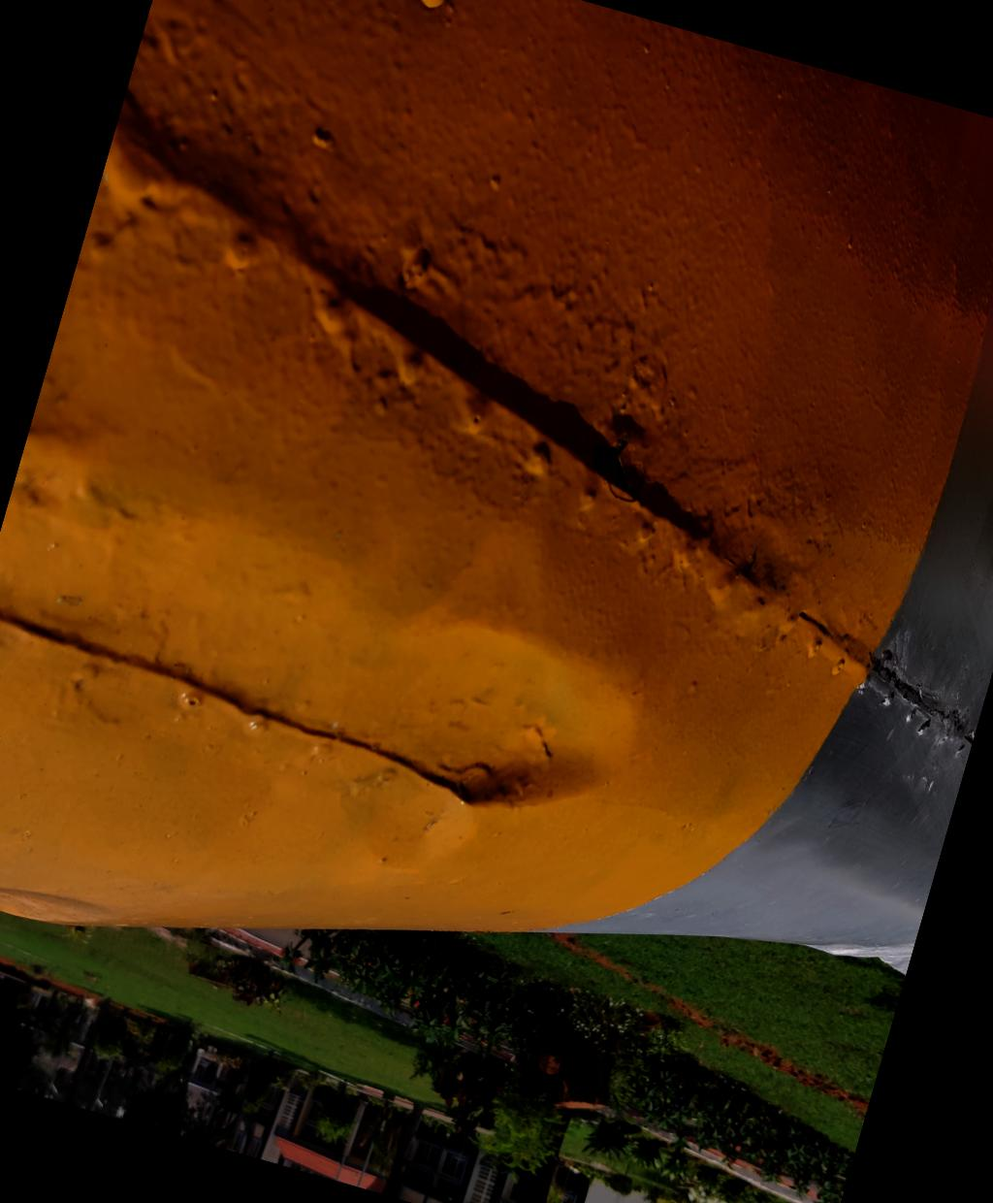dent: (324, 545, 693, 912)
